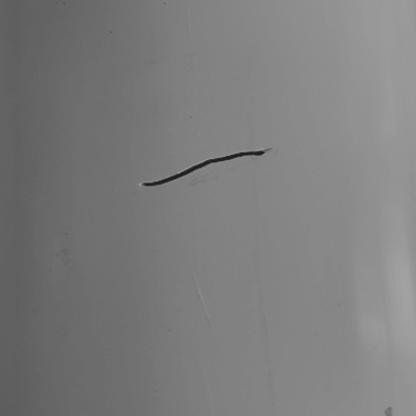fengxi: (139, 149, 272, 187)
